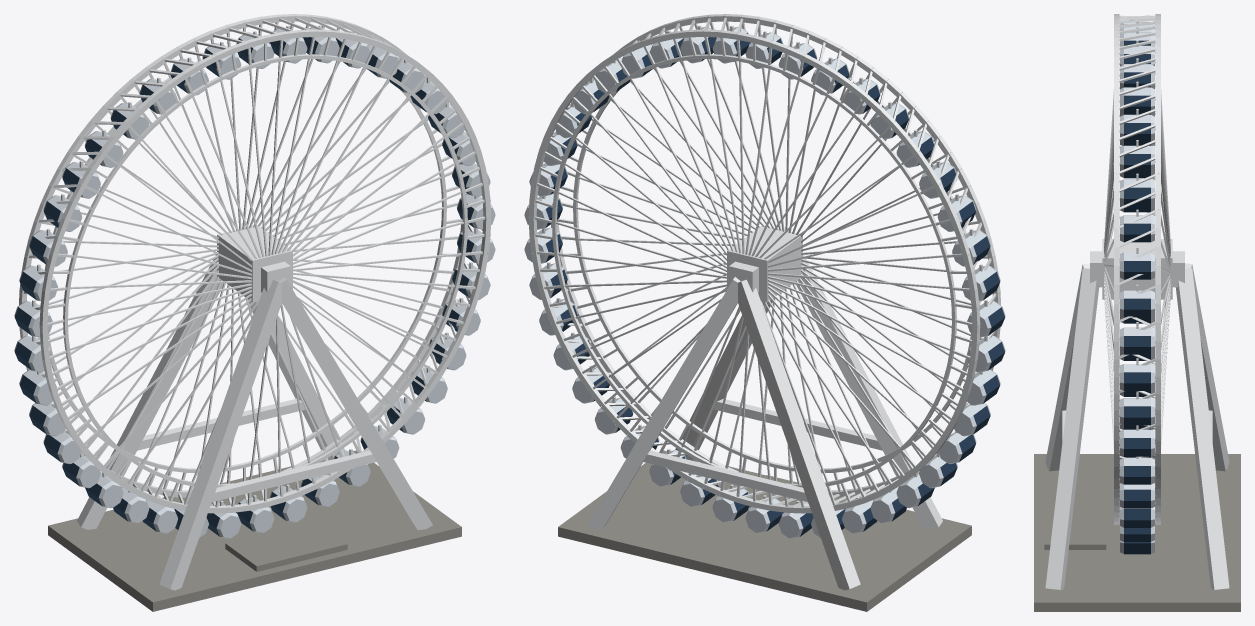
File: great_wheel.glb
3 renders of one model, left to right at view 1: azimuth 30°, elevation 25°; view 2: azimuth 150°, elevation 25°; view 3: azimuth 270°, elevation 25°, orthographic.
Visible parts, largest first — view 1: wheel_rotor, wheel_stand; view 2: wheel_rotor, wheel_stand; view 3: wheel_stand, wheel_rotor.
Part boxes in pixels (box(x1,y1,x2,y2)): wheel_rotor: box(14, 14, 495, 538); wheel_stand: box(48, 254, 461, 611); wheel_rotor: box(524, 14, 1005, 538); wheel_stand: box(558, 254, 971, 611); wheel_stand: box(1034, 251, 1240, 611); wheel_rotor: box(1102, 14, 1172, 554).
Size of the model in its own units: 51.36 by 53.27 by 20.
1 material, 1 textured.
